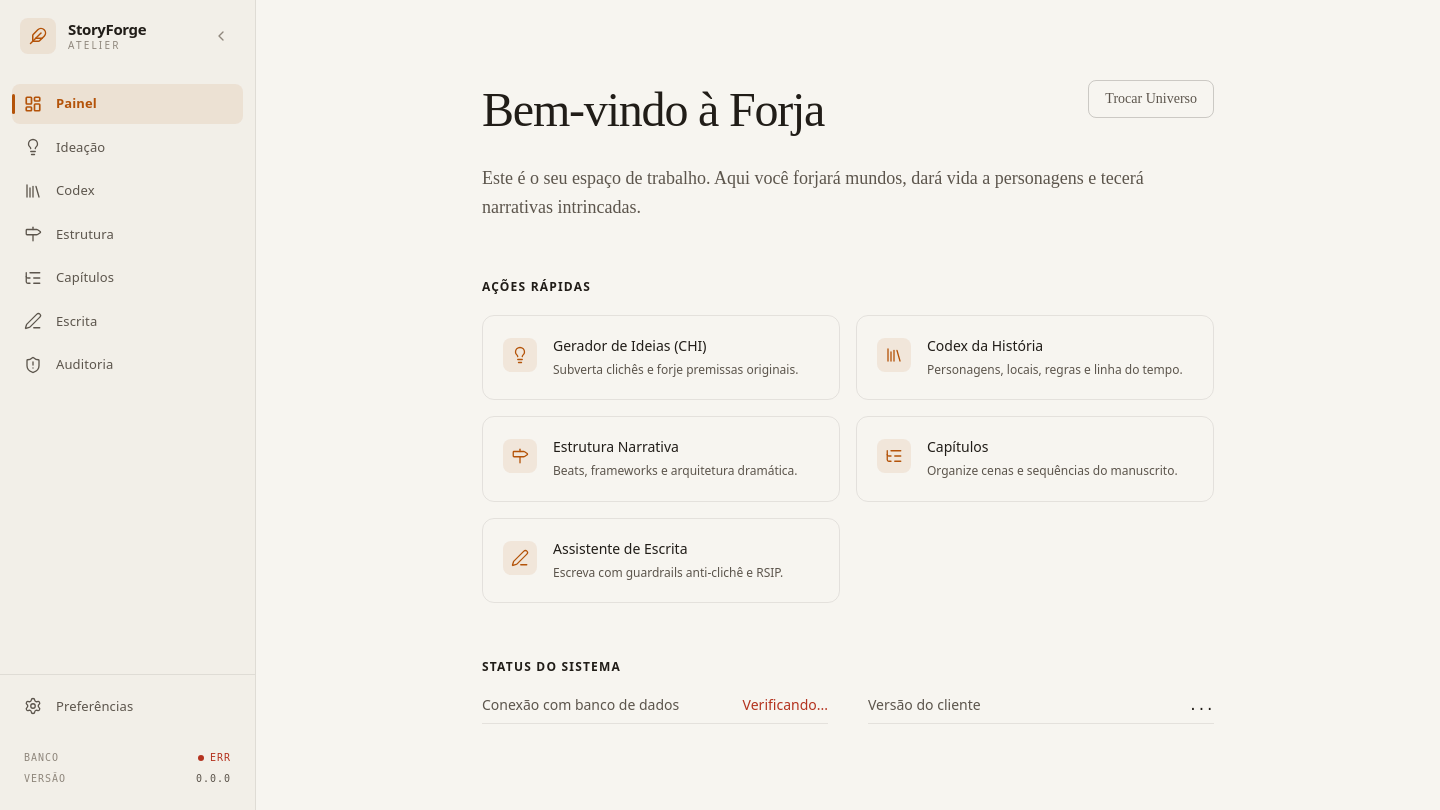
App Integration › should allow switching universes
The width and height of the screenshot is (1440, 810).
Click the button "Trocar Universo" at (1151, 99), box [1088, 80, 1214, 118]
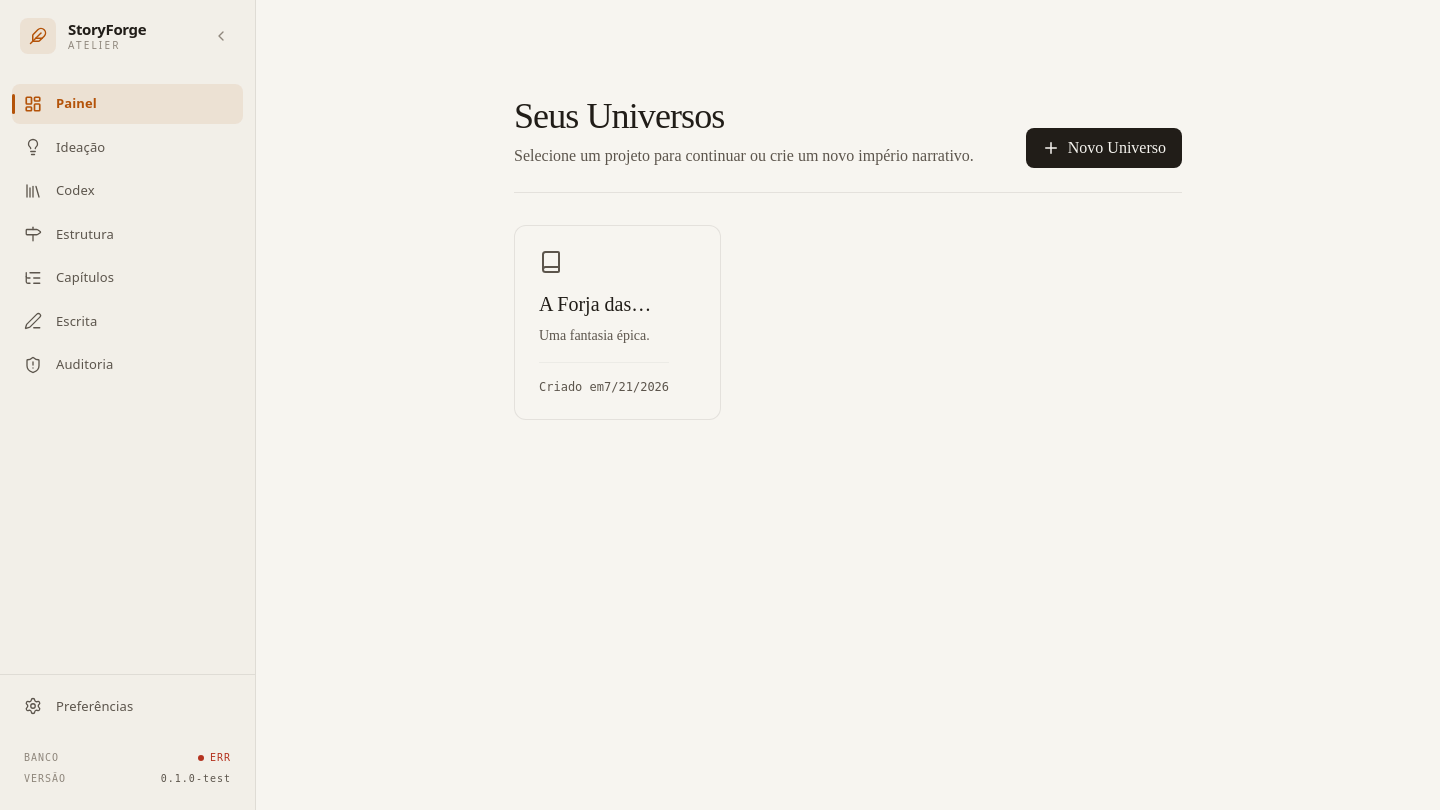
expect the heading "Seus Universos" is shown: met, box [514, 96, 724, 136]
